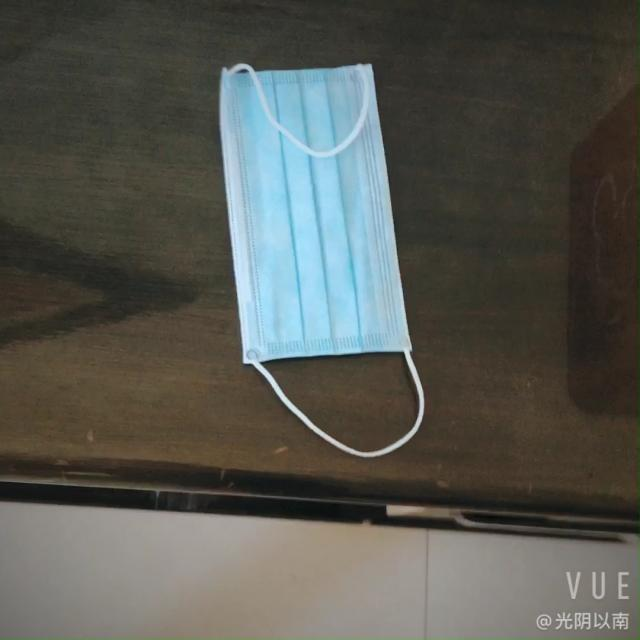face mask: (214, 49, 410, 372)
